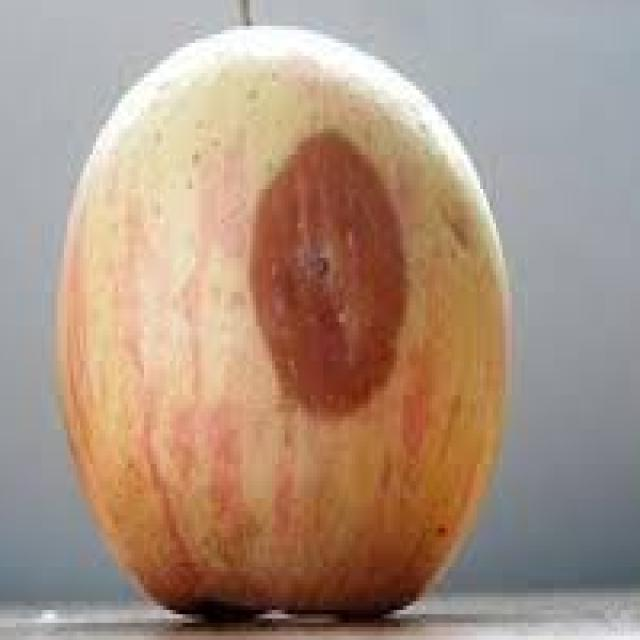inorganic: (30, 16, 561, 630)
